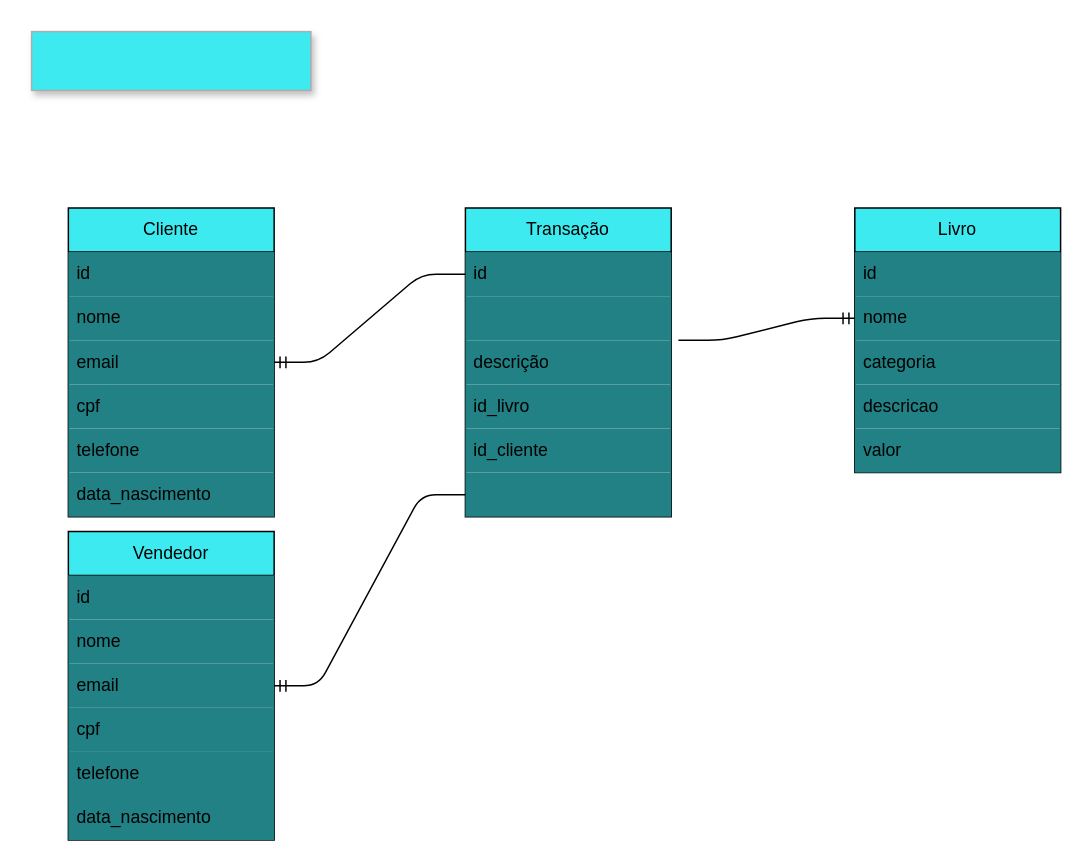
This 1086x866 diagram has some shape labels left out. Each missing label, with the centre of its shape:
id_vendedor: the point at 567,494
Livraria: the point at 172,62
metodo_pagamento: the point at 567,317
